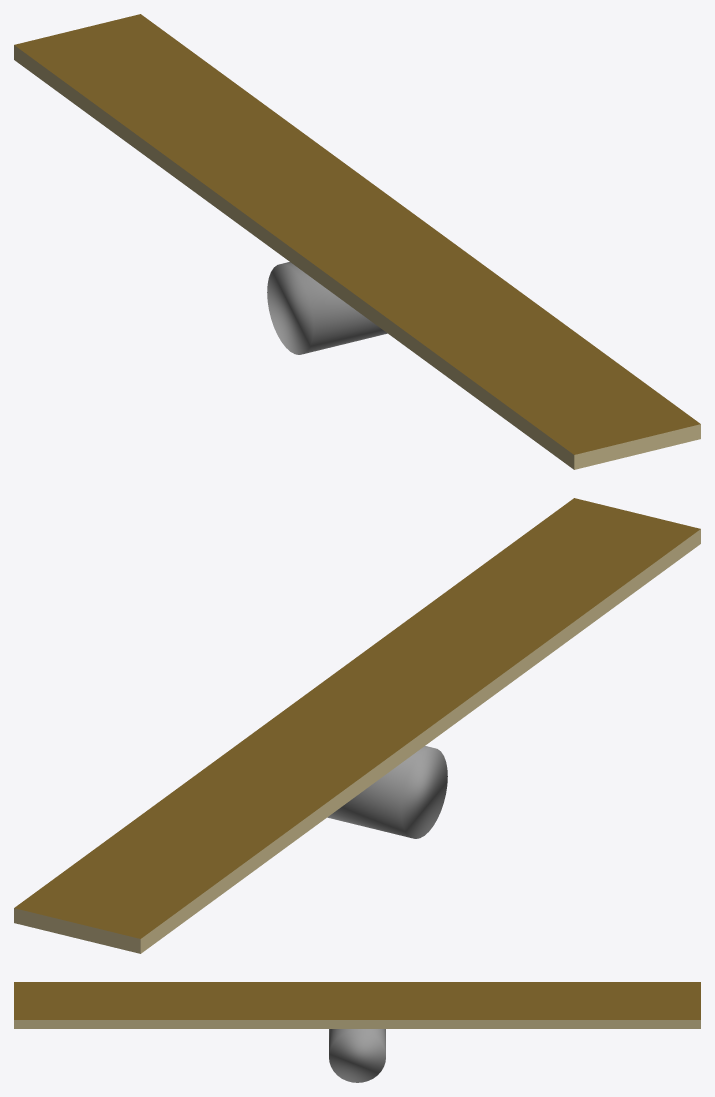
Rendered from Bascule.fbx.
The picture shows the model from 3 angles, top to bottom: view 1: azimuth 30°, elevation 25°; view 2: azimuth 150°, elevation 25°; view 3: azimuth 270°, elevation 25°; orthographic projection. The views are drawn at different scales.
Visible parts, largest first — view 1: BasculePlank, BasculeBase; view 2: BasculePlank, BasculeBase; view 3: BasculePlank, BasculeBase.
Boxes of the visible parts, x1,y1,x2,y2 form: BasculePlank: [14, 14, 700, 469]; BasculeBase: [267, 262, 387, 354]; BasculePlank: [14, 498, 700, 953]; BasculeBase: [327, 746, 447, 838]; BasculePlank: [14, 982, 700, 1028]; BasculeBase: [329, 1029, 385, 1082].
Bounding box in the file's own units: 3.31 × 24 × 2.39.
